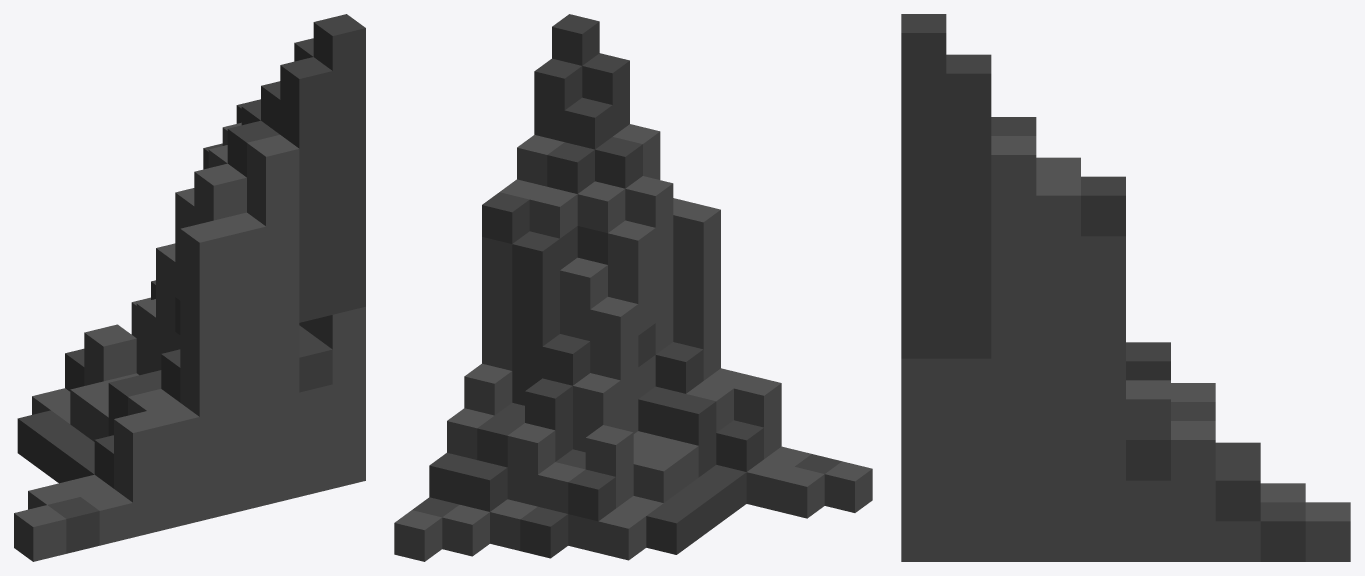
Rendered from Stein_ecke-2.0-0.obj.
3 views of the same model, side by side, from view 1: azimuth 30°, elevation 25°; view 2: azimuth 150°, elevation 25°; view 3: azimuth 270°, elevation 25° (orthographic). The views are drawn at different scales.
Bounding box in the file's own units: 1 × 1.3 × 1.
Materials: 1 (1 with a texture image).
